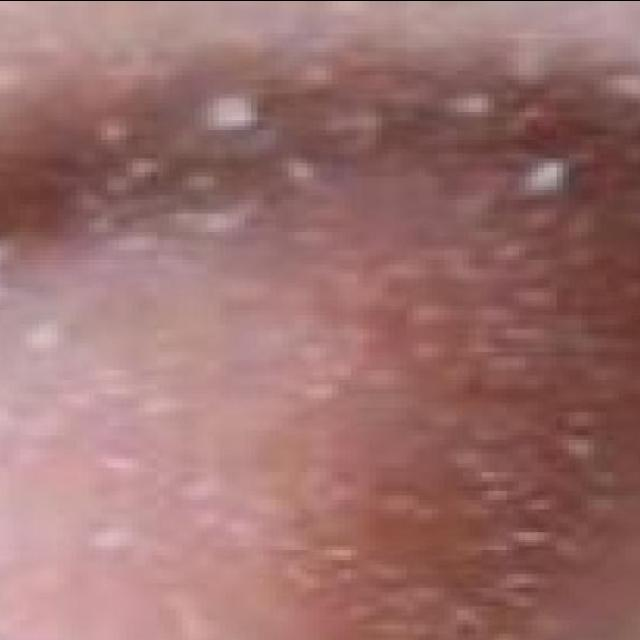whitehead: (0, 37, 640, 640)
